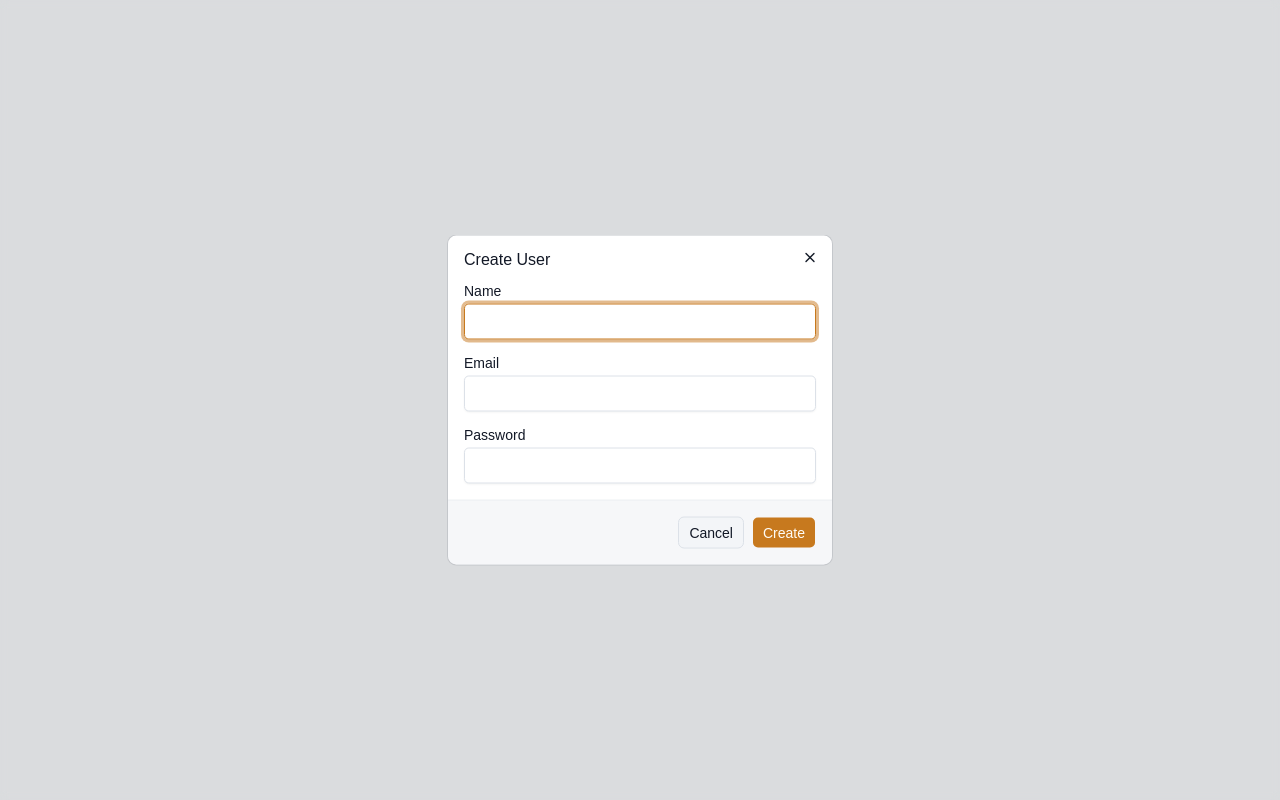
UserFormDialog — Create mode › Validation › shows an error when name is fewer than 3 characters
Type "ab" into the field labelled "Name" at (640, 322), box [464,304,816,340]
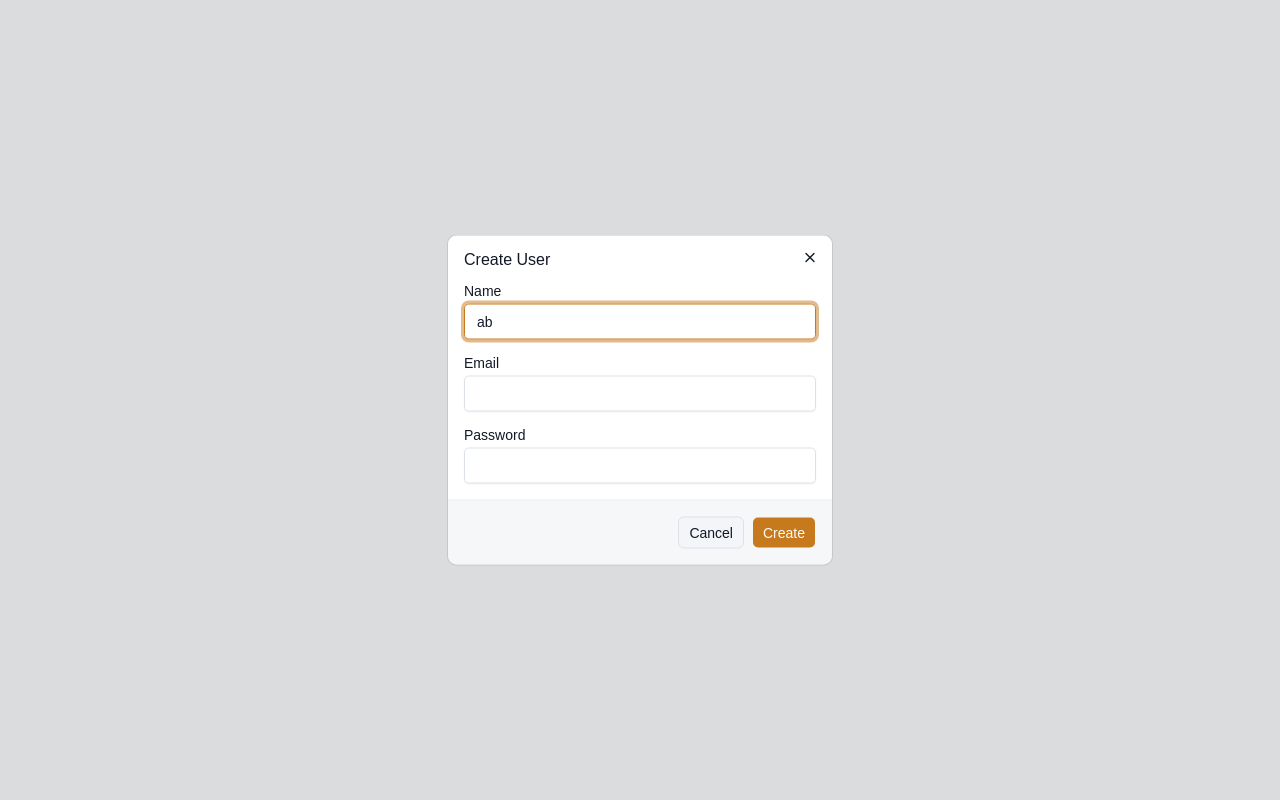
Click the button "Create" at (784, 532), box [752,516,816,548]
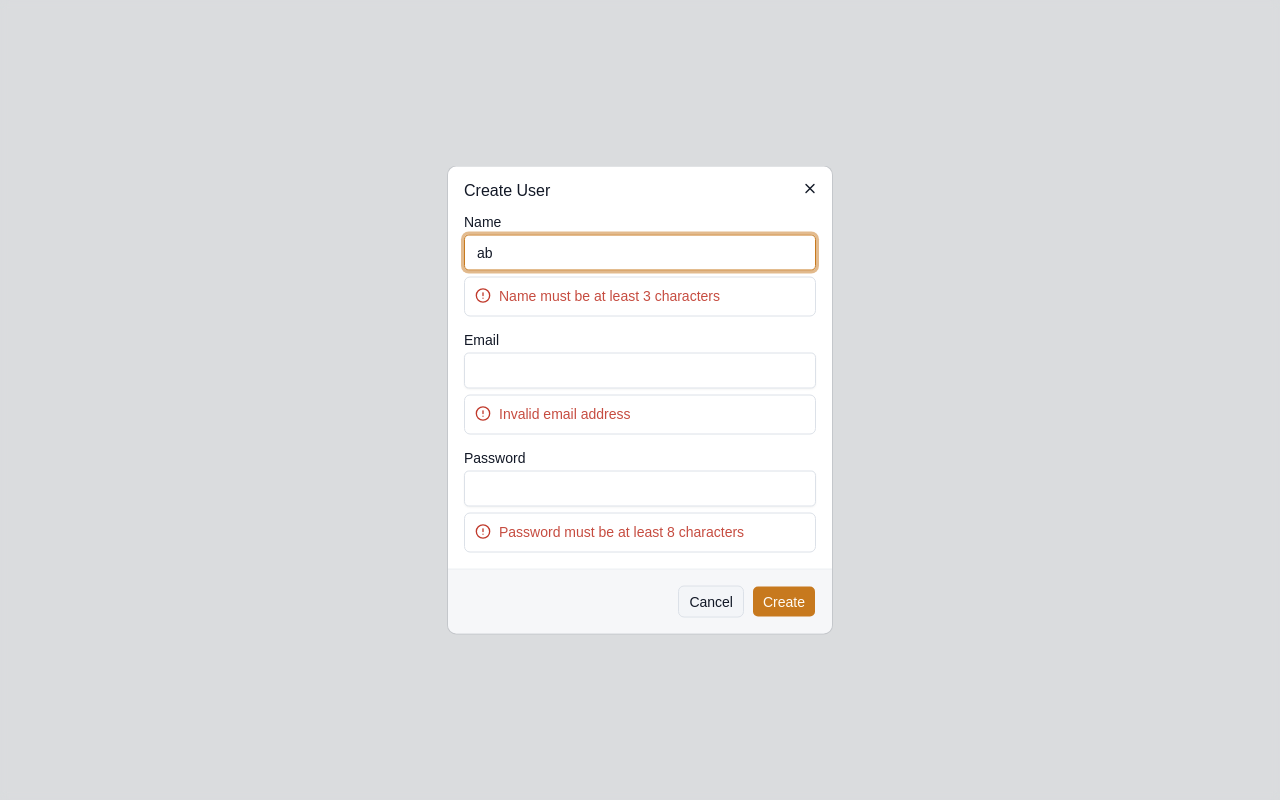
Check: the text "Name must be at least 3 characters" is shown, box [499,288,720,304]
